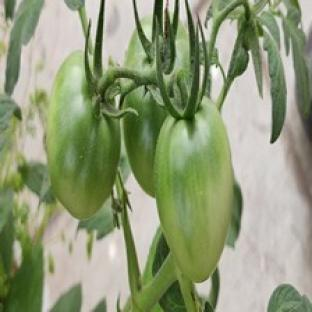Tomato: (155, 98, 233, 281), (46, 52, 121, 218), (123, 87, 167, 196)
